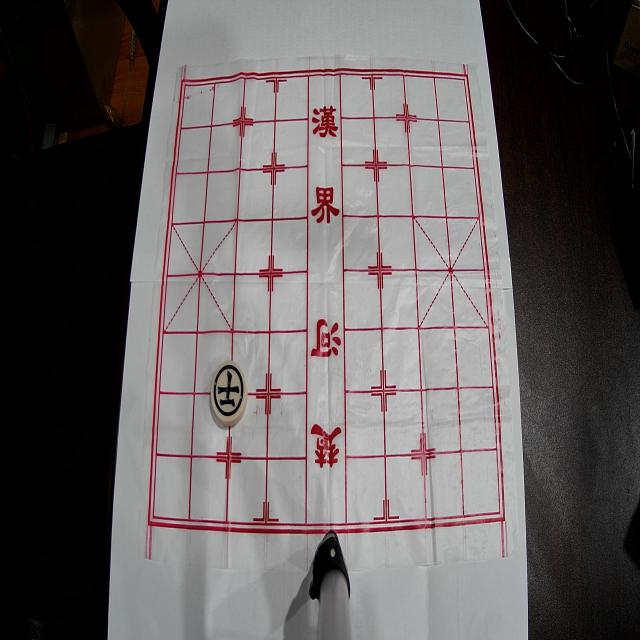black-guard: (211, 361, 247, 426)
